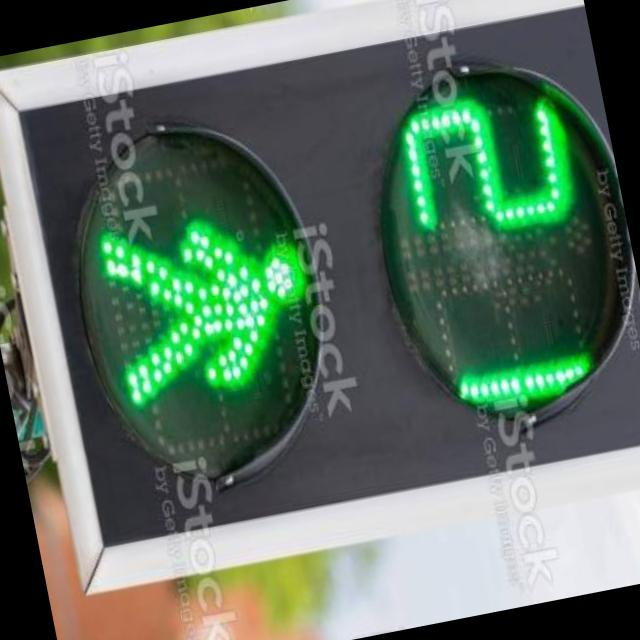green_light: (57, 41, 640, 502)
